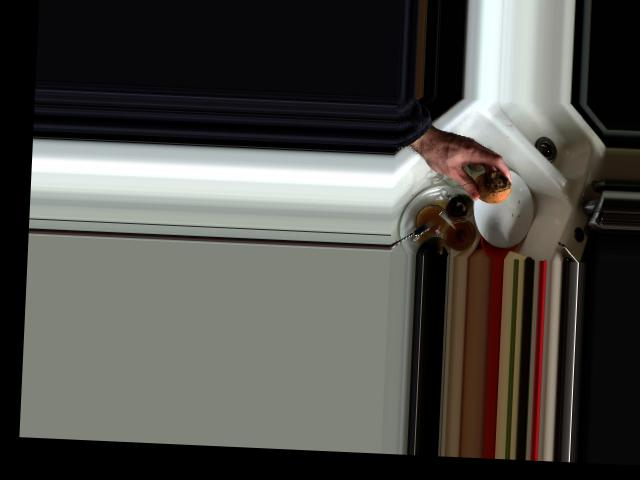sweet_potato: (467, 167, 513, 205)
